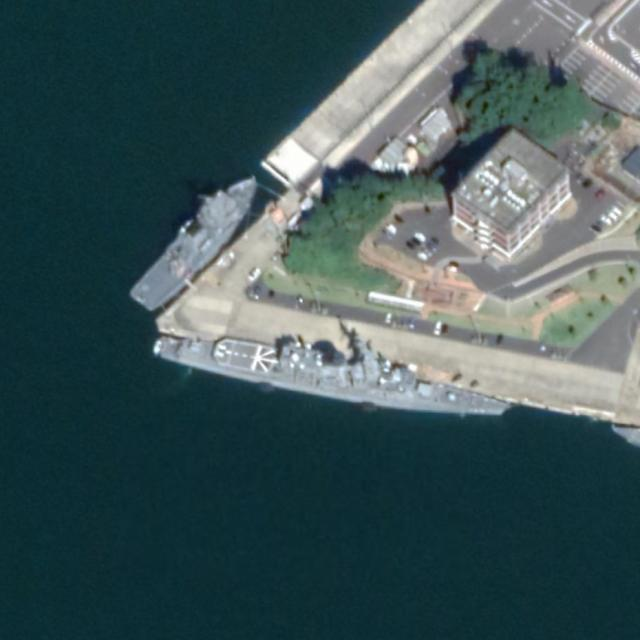Destroyer: (158, 326, 510, 431)
Other Warship: (120, 163, 273, 320)
